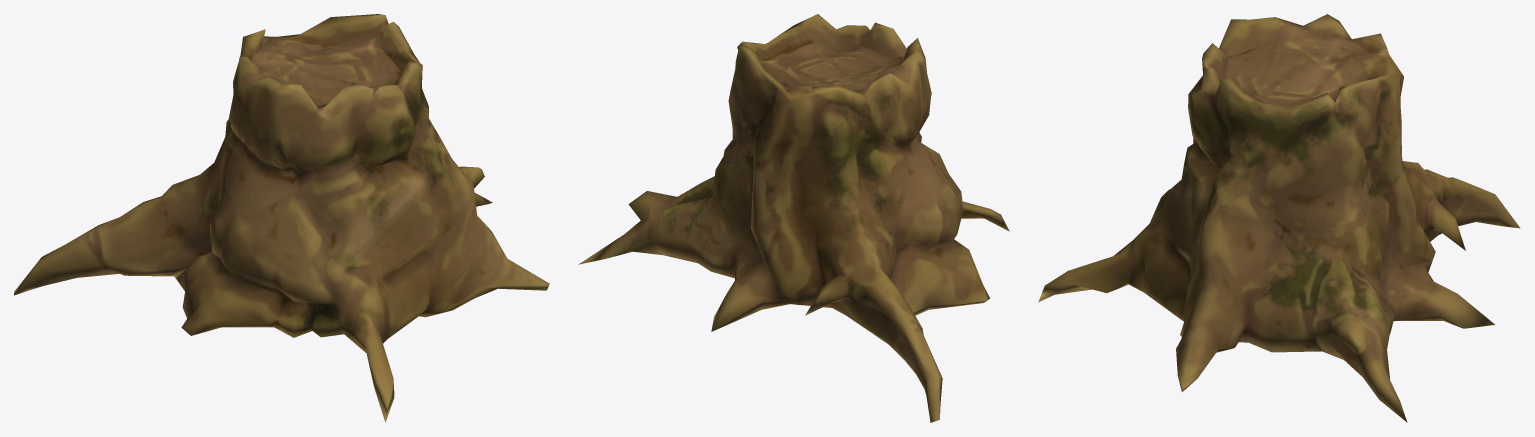
Rendered from Stylize_Stump.fbx.
3 renders of one model, left to right at view 1: azimuth 30°, elevation 25°; view 2: azimuth 150°, elevation 25°; view 3: azimuth 270°, elevation 25°, orthographic. The views are drawn at different scales.
Visible parts, largest first — view 1: Stylize_Stump_LOD0; view 2: Stylize_Stump_LOD0; view 3: Stylize_Stump_LOD0.
Part boxes in pixels (bbox=[...]): Stylize_Stump_LOD0: bbox=[14, 14, 549, 422]; Stylize_Stump_LOD0: bbox=[578, 14, 1009, 422]; Stylize_Stump_LOD0: bbox=[1038, 14, 1520, 422].
Size of what is drawn, in the model's own units: 133 by 80.06 by 122.
